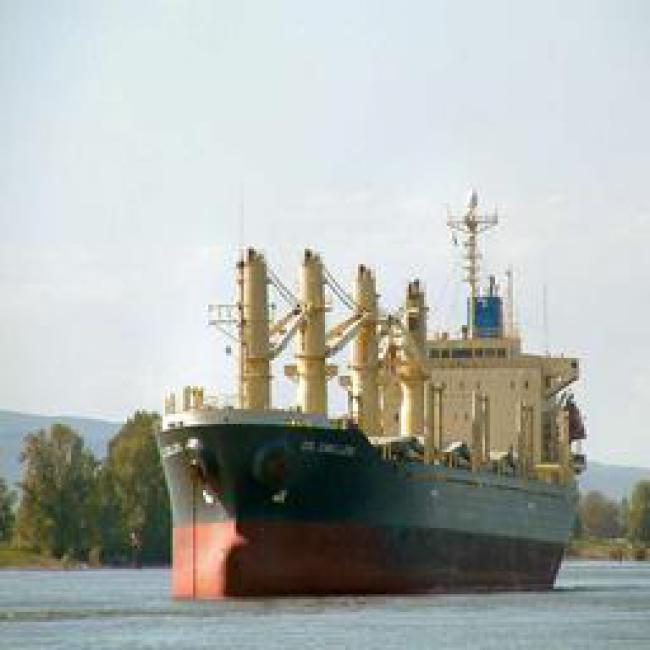Ship: (80, 352, 601, 603)
